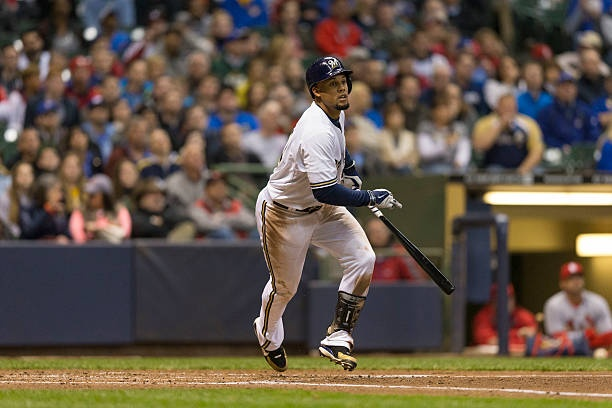bita: (362, 196, 454, 292)
